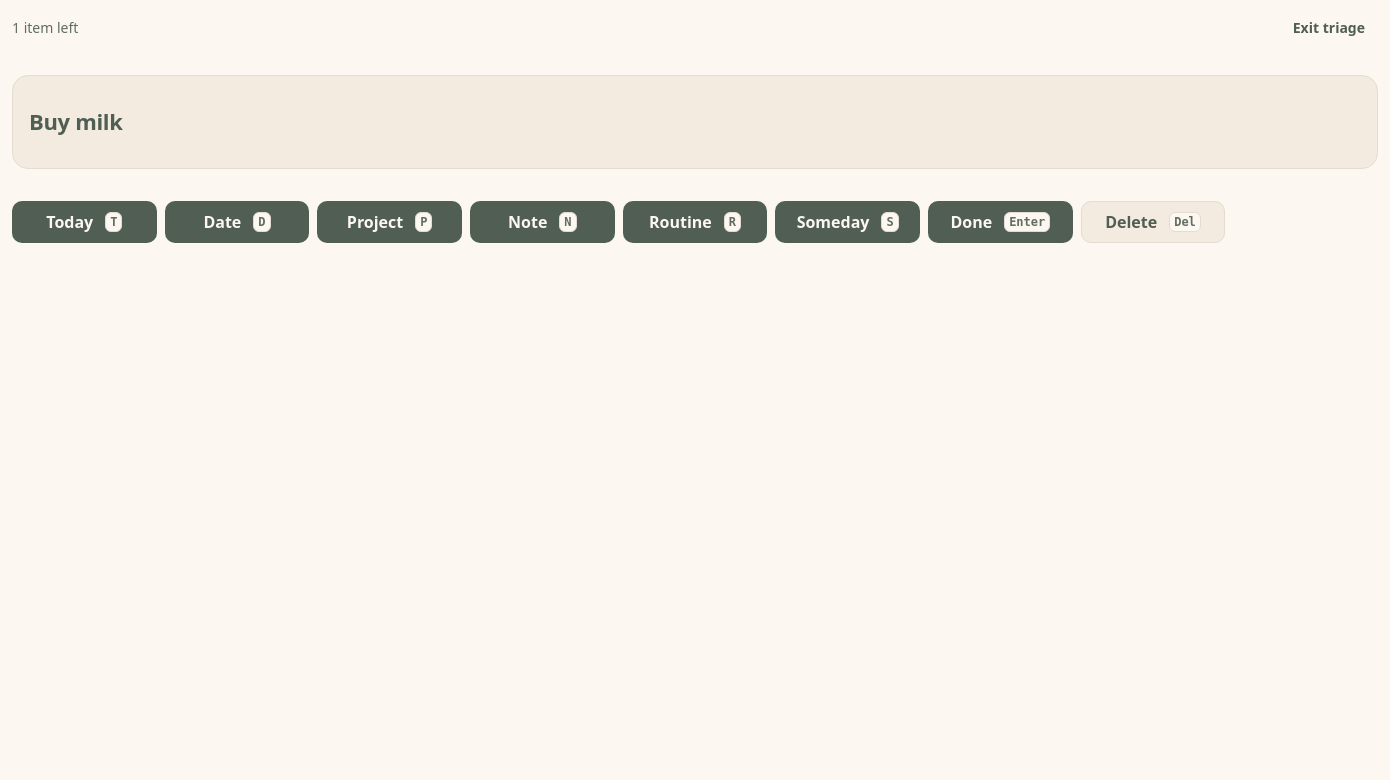
Test: TriageView › shows an undo toast after an action, and Undo reverts it
Press t
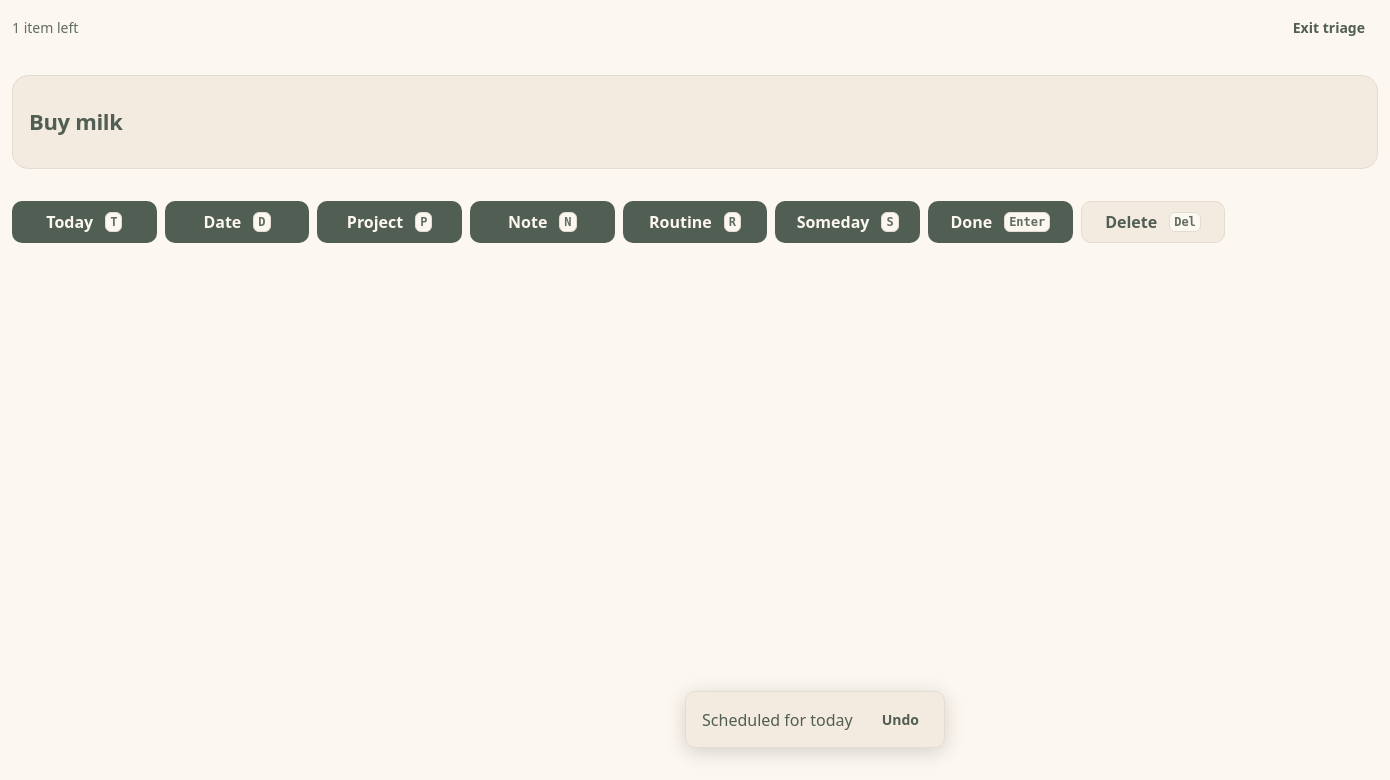
Expected: the text "Scheduled for today" is shown, [702,708,853,732]
Click the button "Undo" at coordinates (900, 720), box [869,704,932,735]
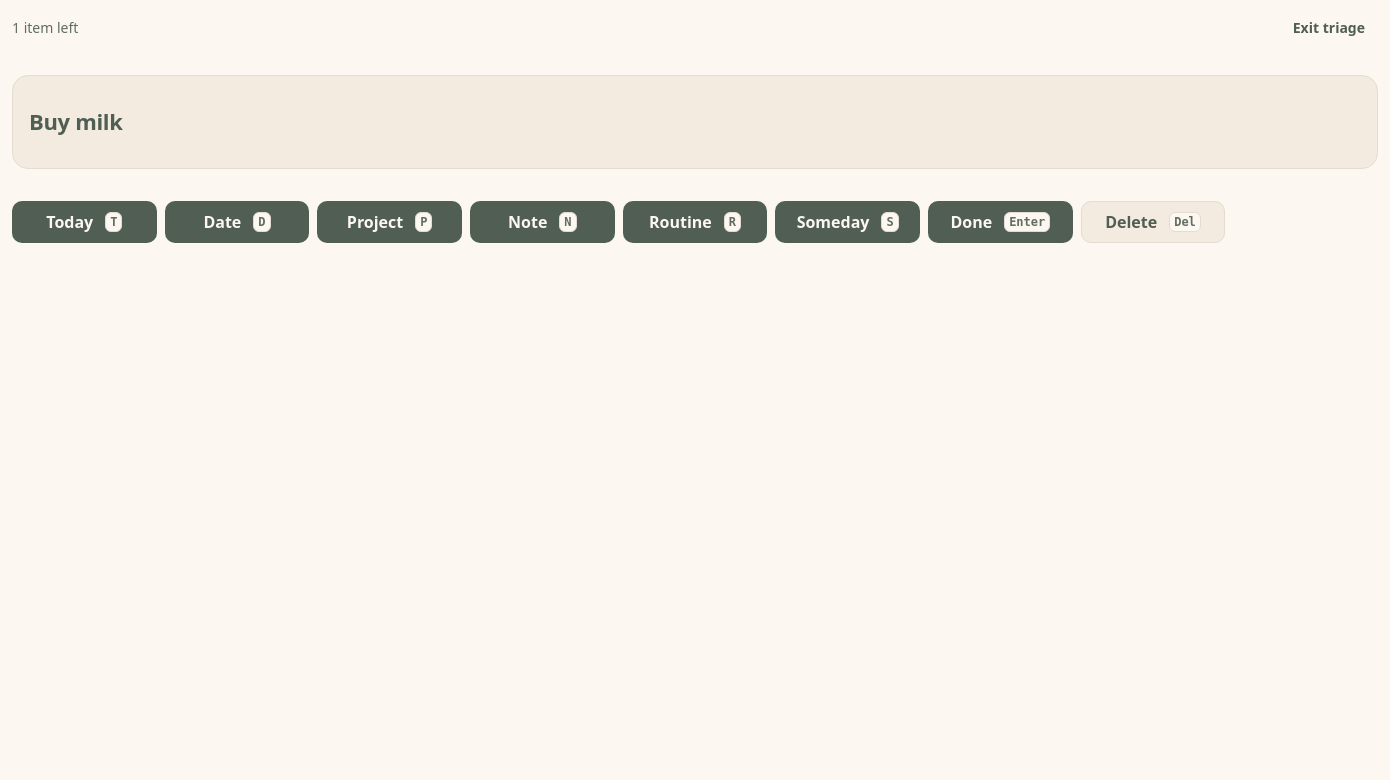
Expected: the text "Scheduled for today" is gone
